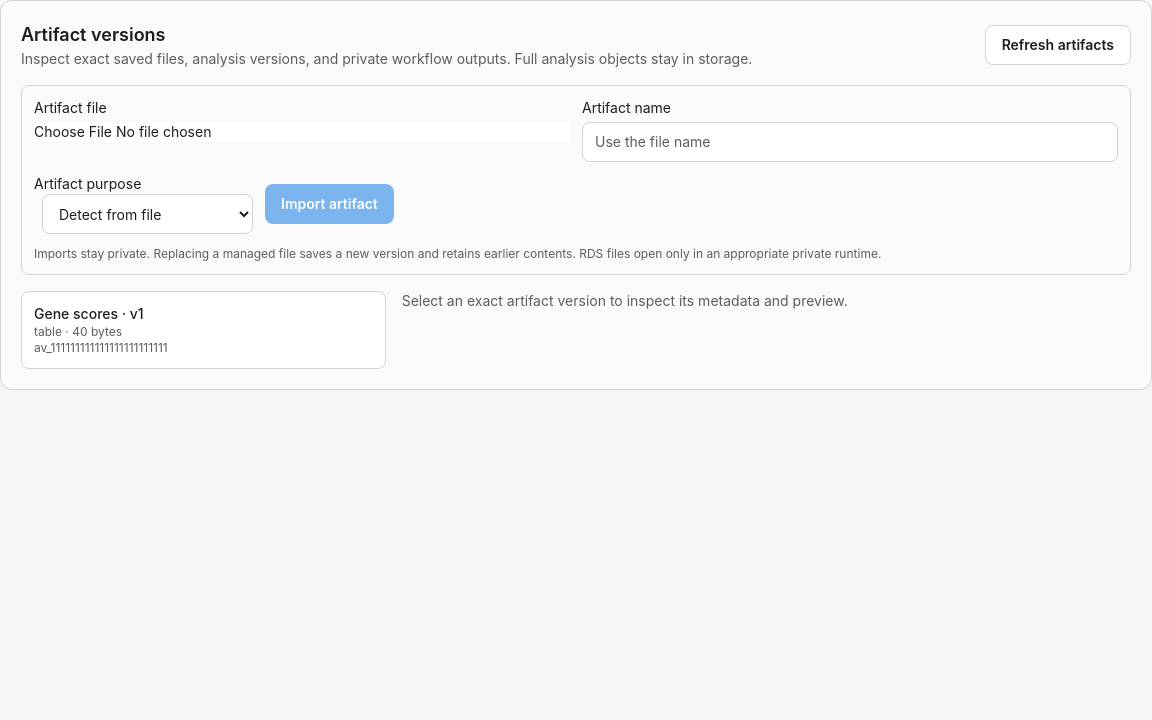
Test case: does not expose a preview after checksum failure and clears private details when access is revoked
Click the button "Gene scores · v1" at (76, 314), box [21,291,386,369]
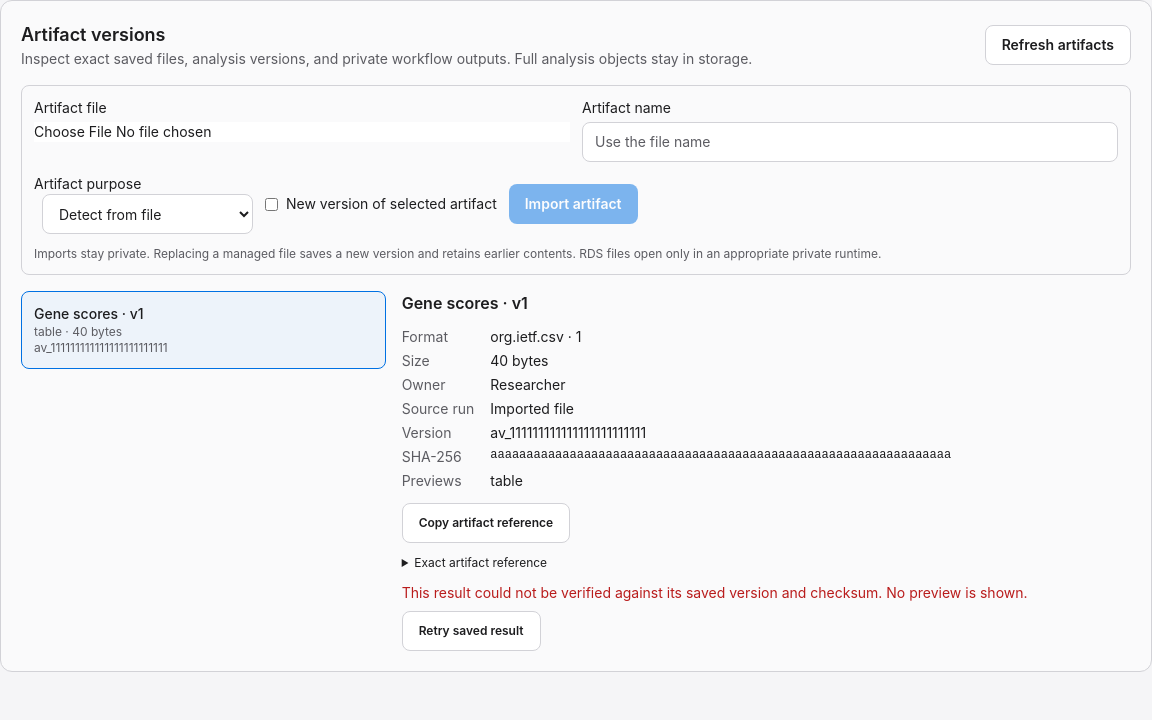
Now the message shows "could not be verified", box [402,584,1028,601]
Click the button "Refresh artifacts" at (1058, 45), box [985,25,1131,65]
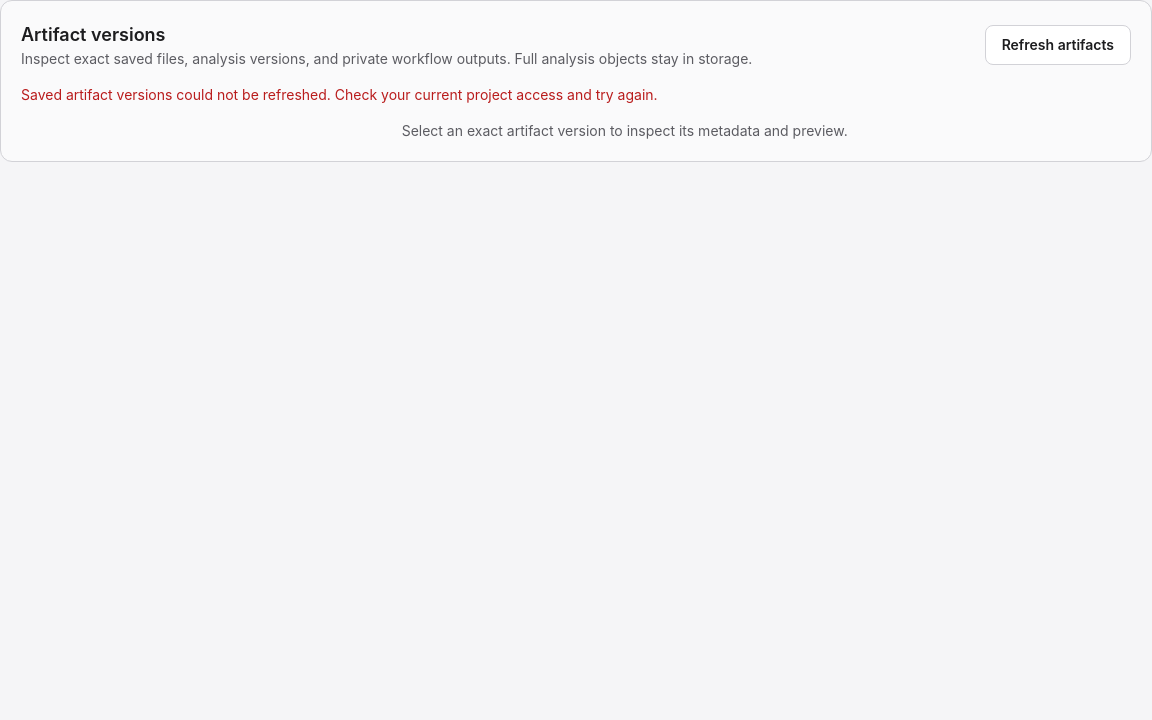
Now the text "Researcher" is gone
Now the button "Gene scores · v1" is gone
